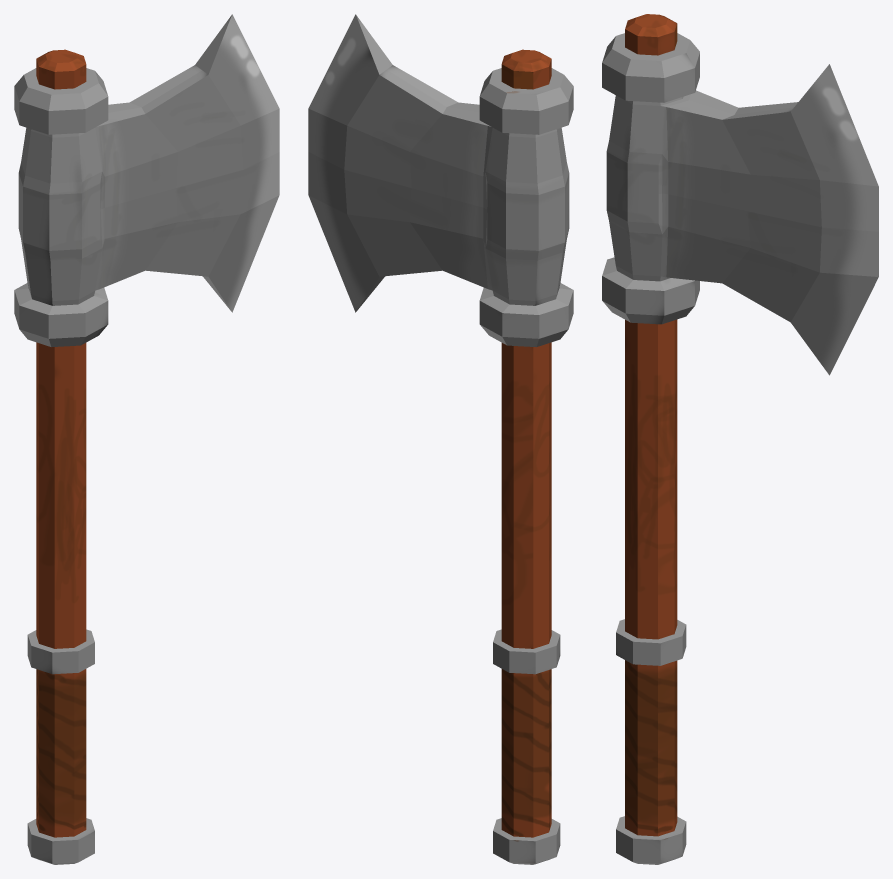
File: axe.fbx
3 renders of one model, left to right at view 1: azimuth 30°, elevation 25°; view 2: azimuth 150°, elevation 25°; view 3: azimuth 330°, elevation 25°, orthographic. The views are drawn at different scales.
Parts seen in each view (by area): view 1: Circle; view 2: Circle; view 3: Circle.
Boxes of the visible parts, x1,y1,x2,y2 form: Circle: (14,14,279,864); Circle: (308,14,573,864); Circle: (602,14,878,864).
Size of the model in its own units: 1287 by 3775 by 416.
Materials: 1 (1 with a texture image).
